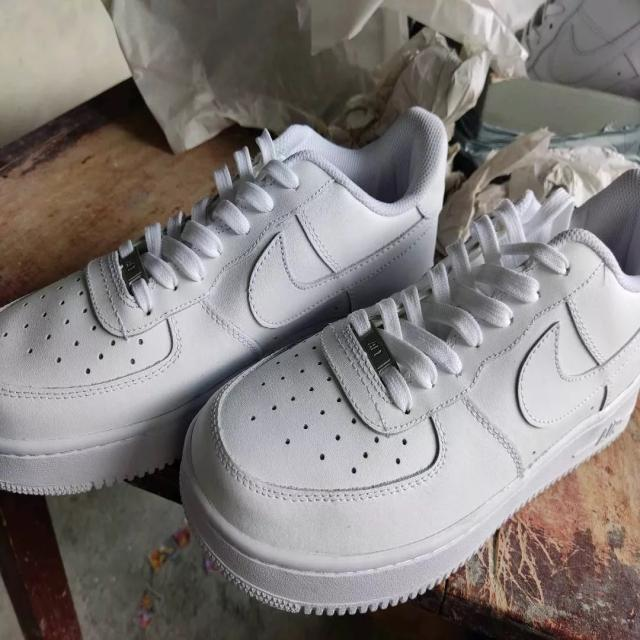nike fake air force: (181, 169, 640, 618), (0, 106, 453, 498)
